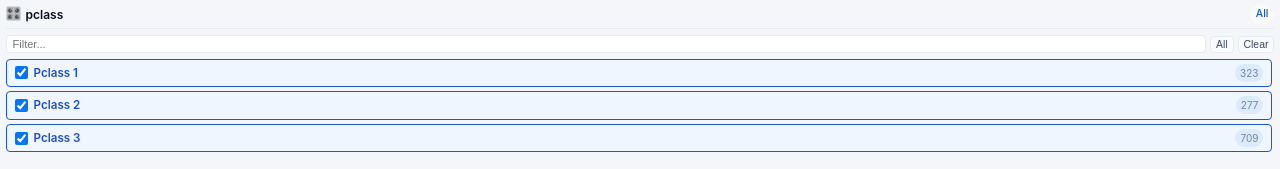
Test: SlicerVisual - Interactive Dimension Filtering & Parity Guardrails › clears all selections when clicking 'Clear' button
The width and height of the screenshot is (1280, 169).
Click the button with test id "slicer-clear".
click(1256, 44)  # box [1238,36,1274,53]
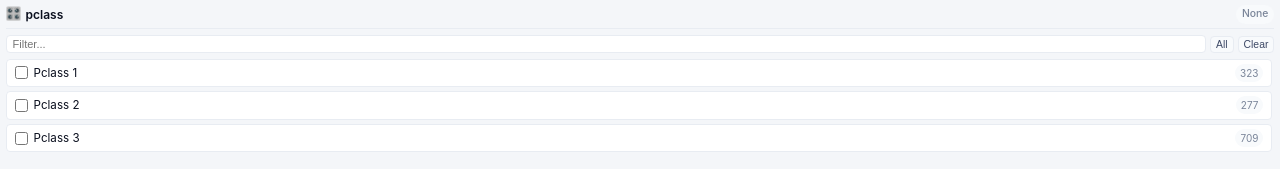
Check: the text with test id "slicer-selection-summary" reads "None", box [1242,7,1268,20]
